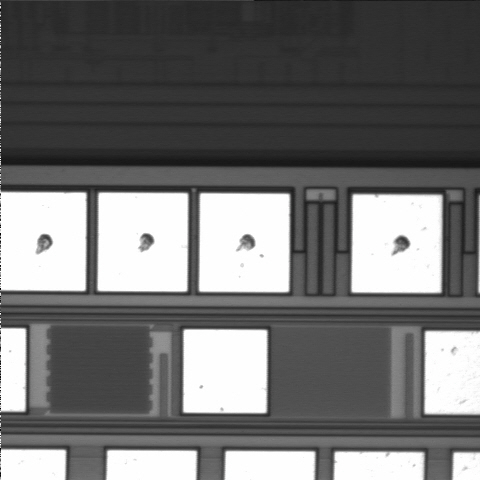pad: (199, 193, 289, 292), (98, 193, 188, 291), (352, 195, 442, 293), (183, 330, 267, 413)
